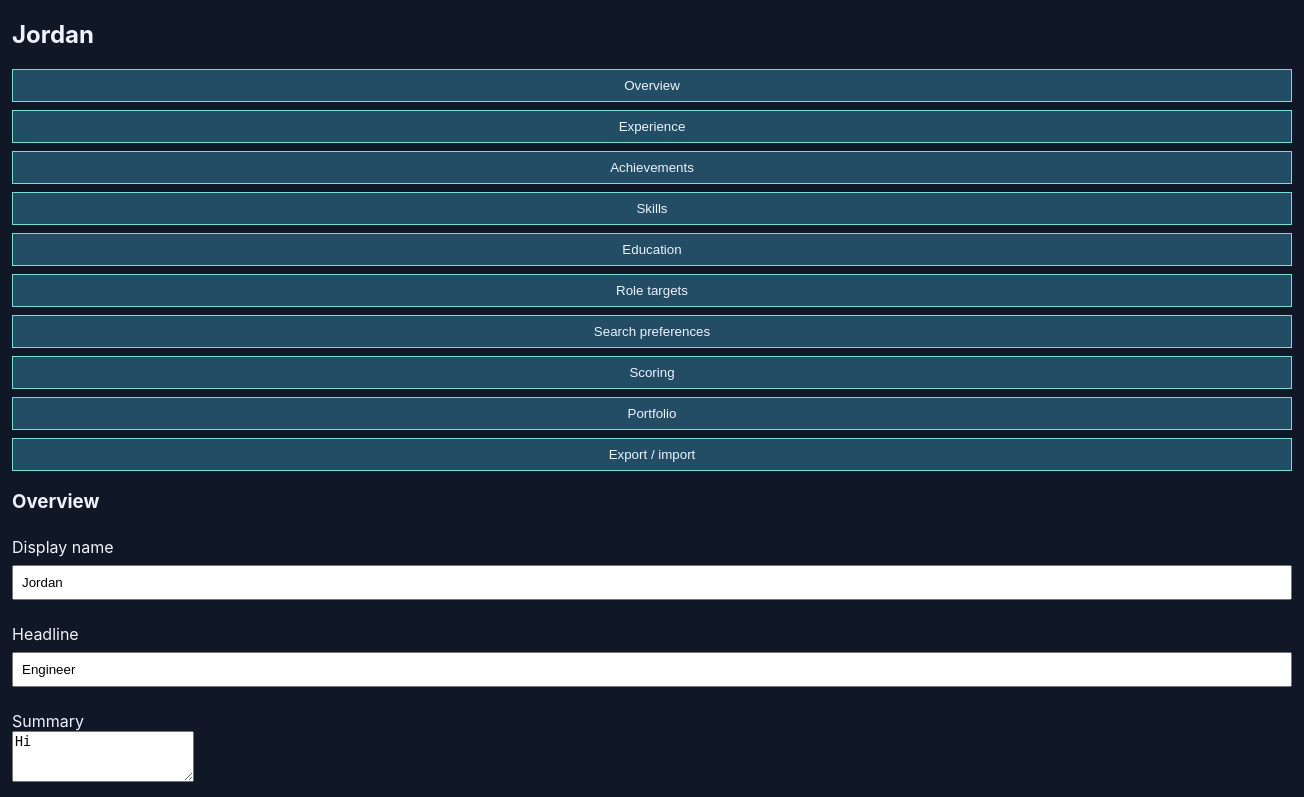
Test case: profile editor › overview loads the contact and saves the profile and contact
Replace the text in the field labelled "Headline" with "Principal Engineer": [652, 669] box [12,652,1292,686]
(page scrolled)
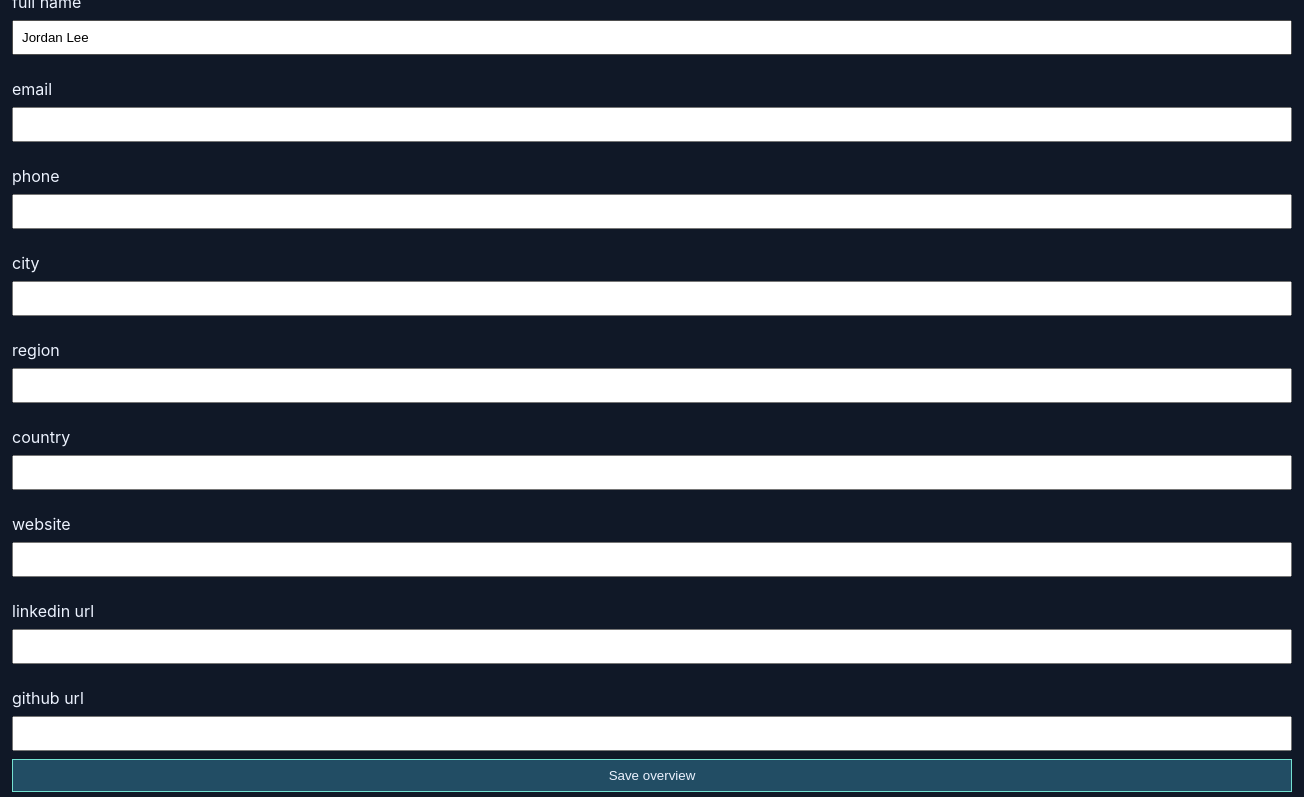
Click the button "Save overview": [652, 775] box [12,759,1292,792]
(page scrolled)
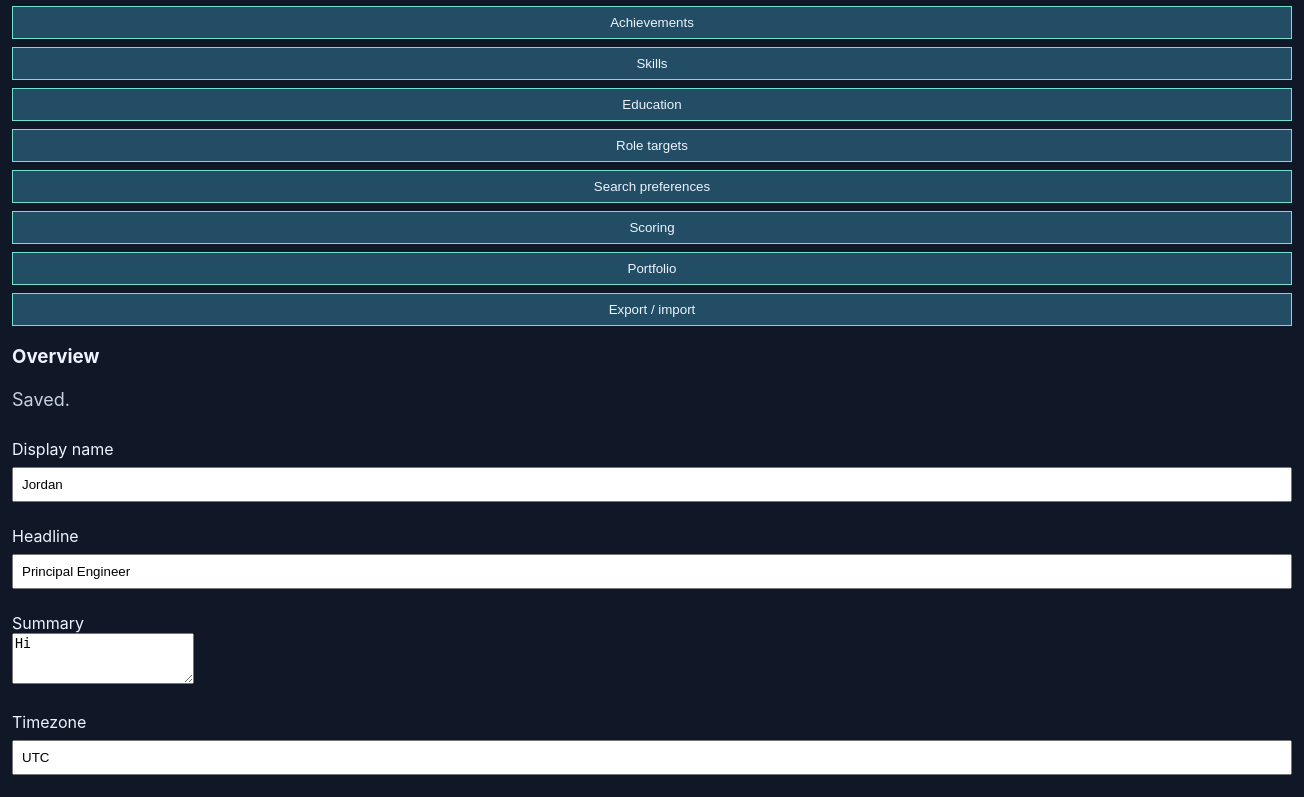
expect the text "Saved." is shown: met, box [12,389,70,410]
